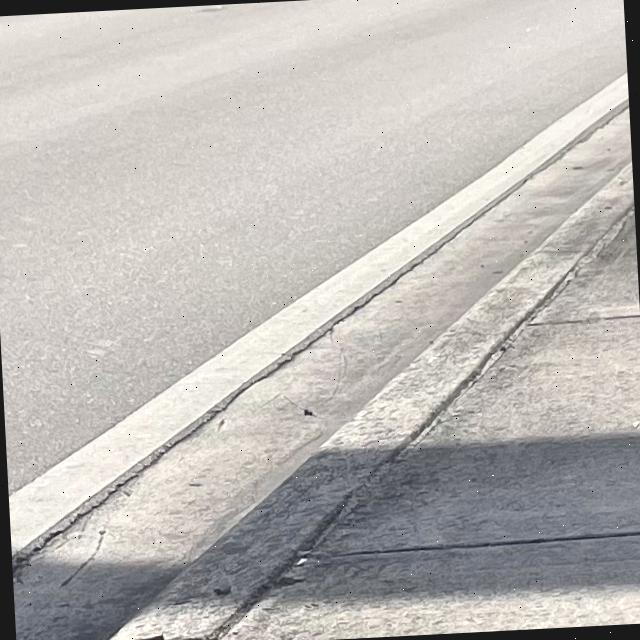curb: (109, 163, 634, 640)
